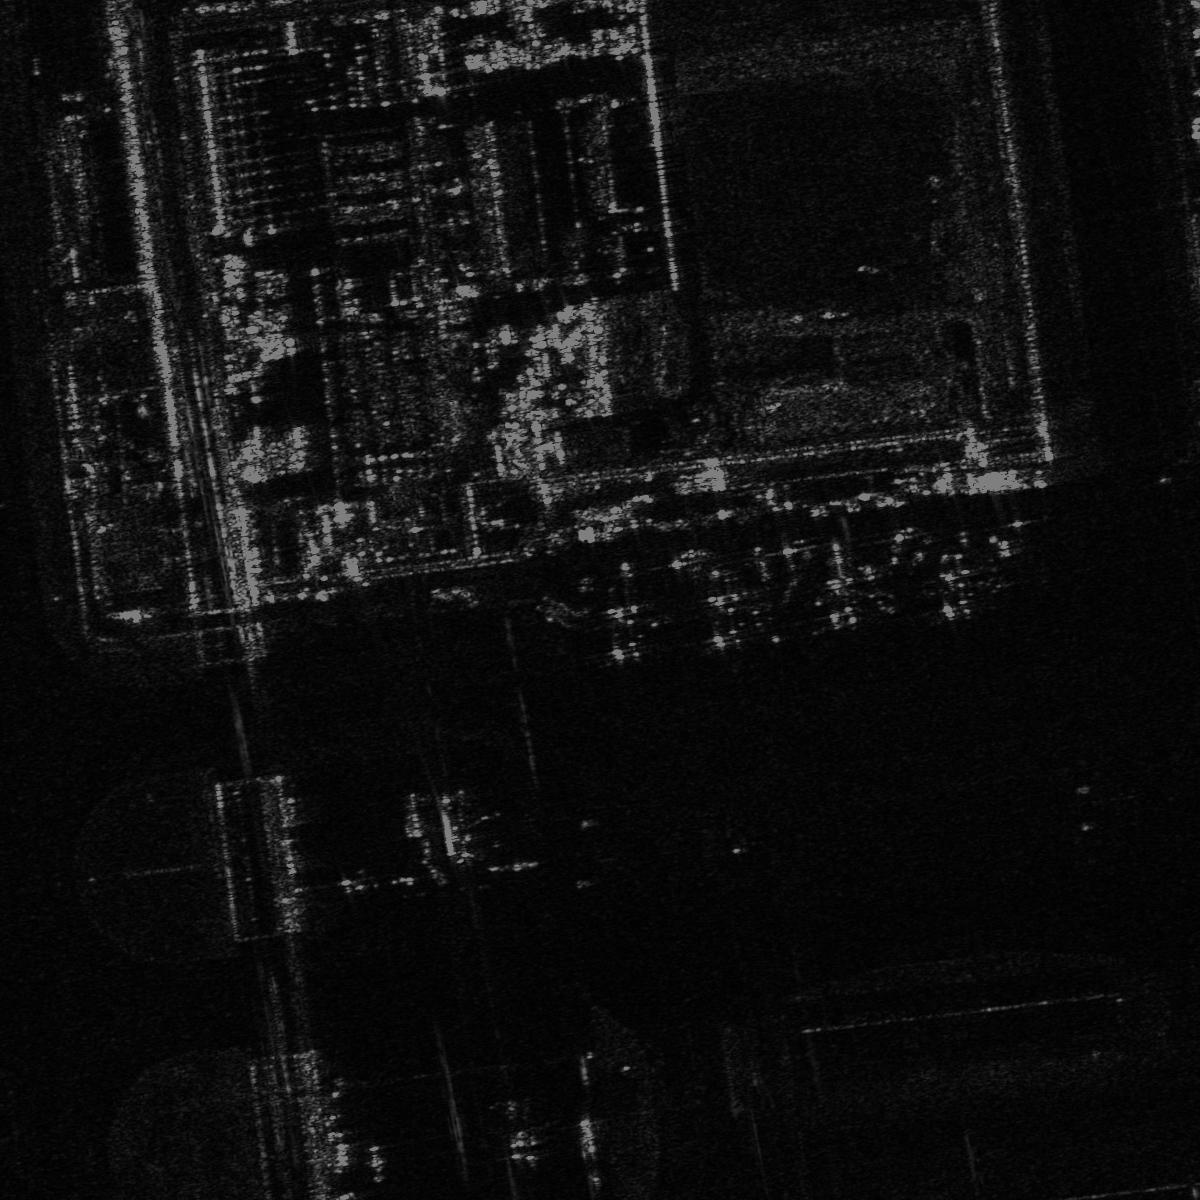Boeing787: (808, 544, 892, 638), (588, 562, 666, 660), (689, 557, 762, 644), (926, 538, 991, 621)
